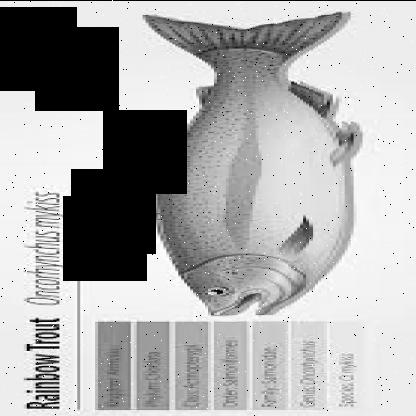fish: (117, 12, 359, 316)
